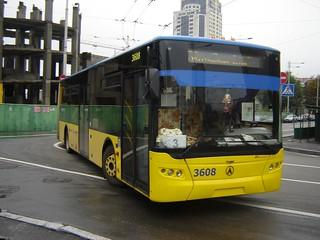bus: (54, 33, 284, 204)
